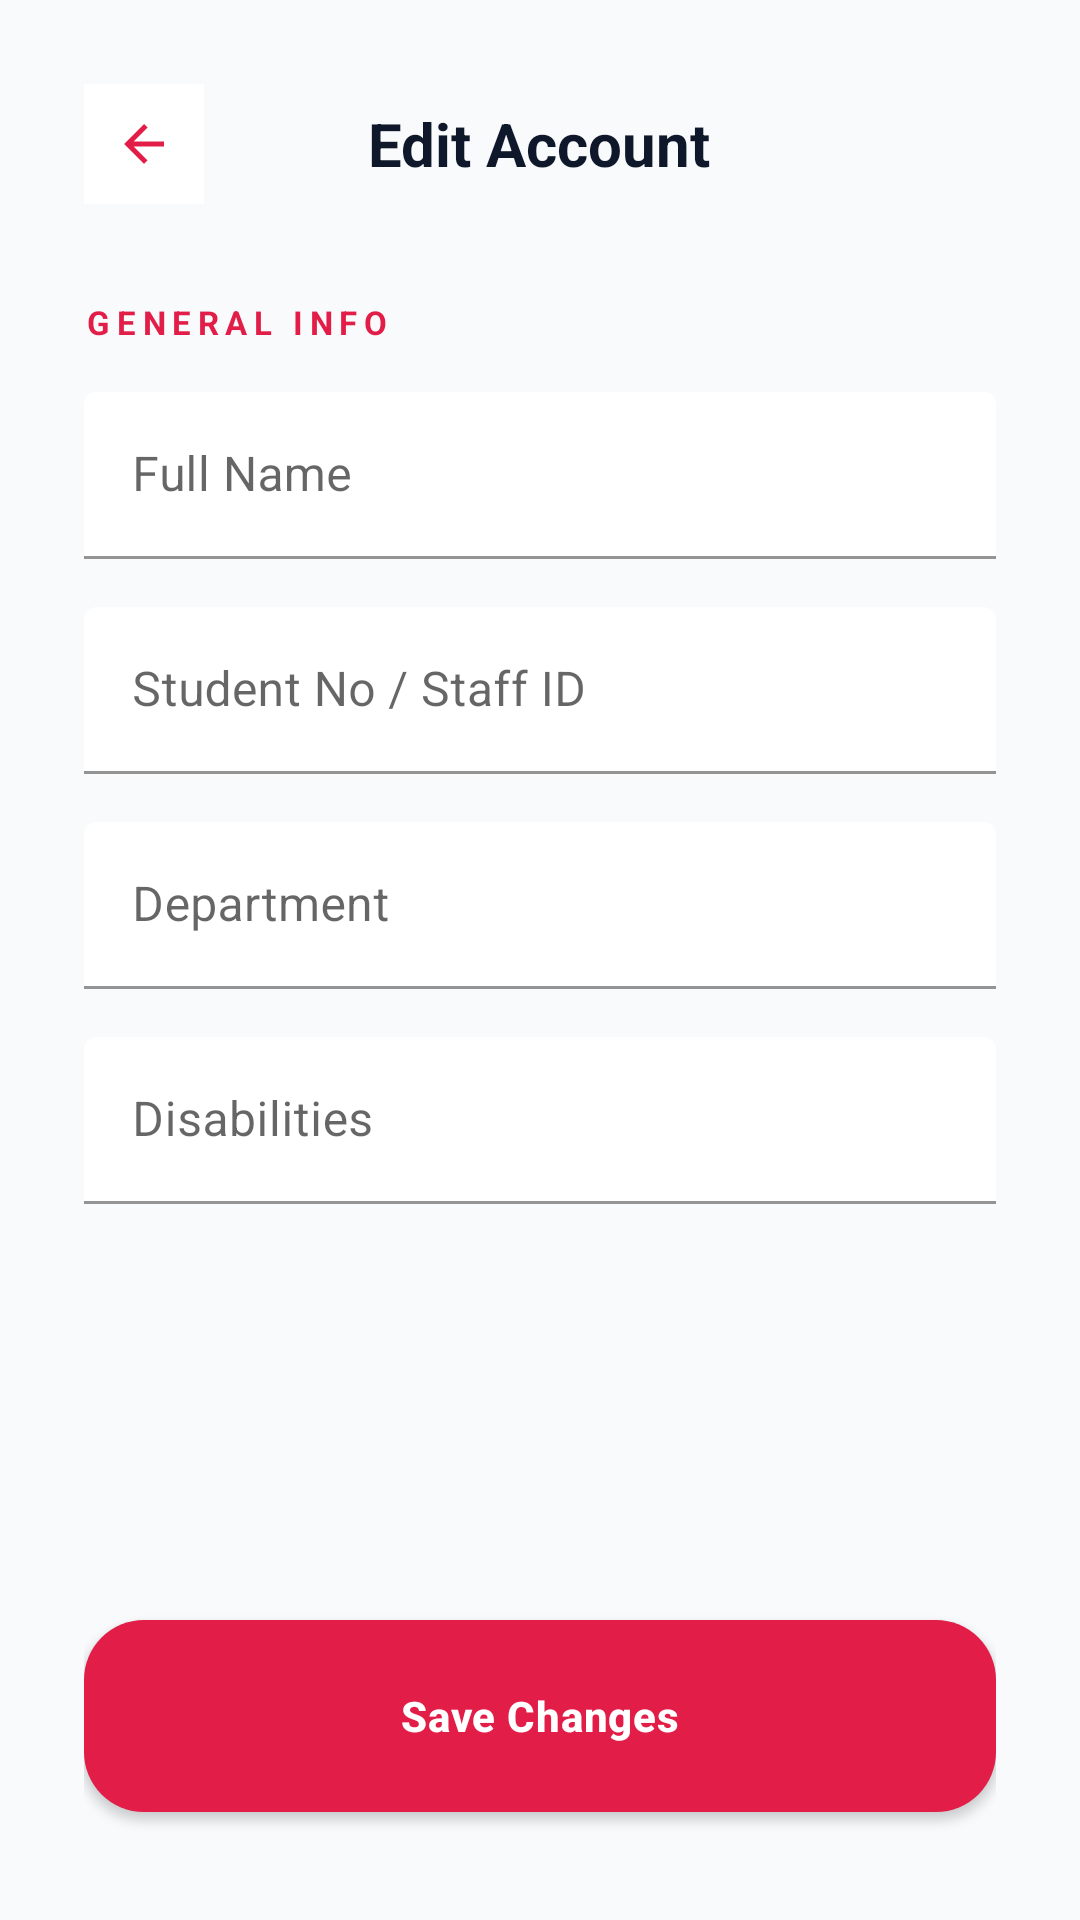

Named icons in this screenshot (1080px x 1920px) and their centers, (x=x, y=y):
Back: (x=144, y=144)
